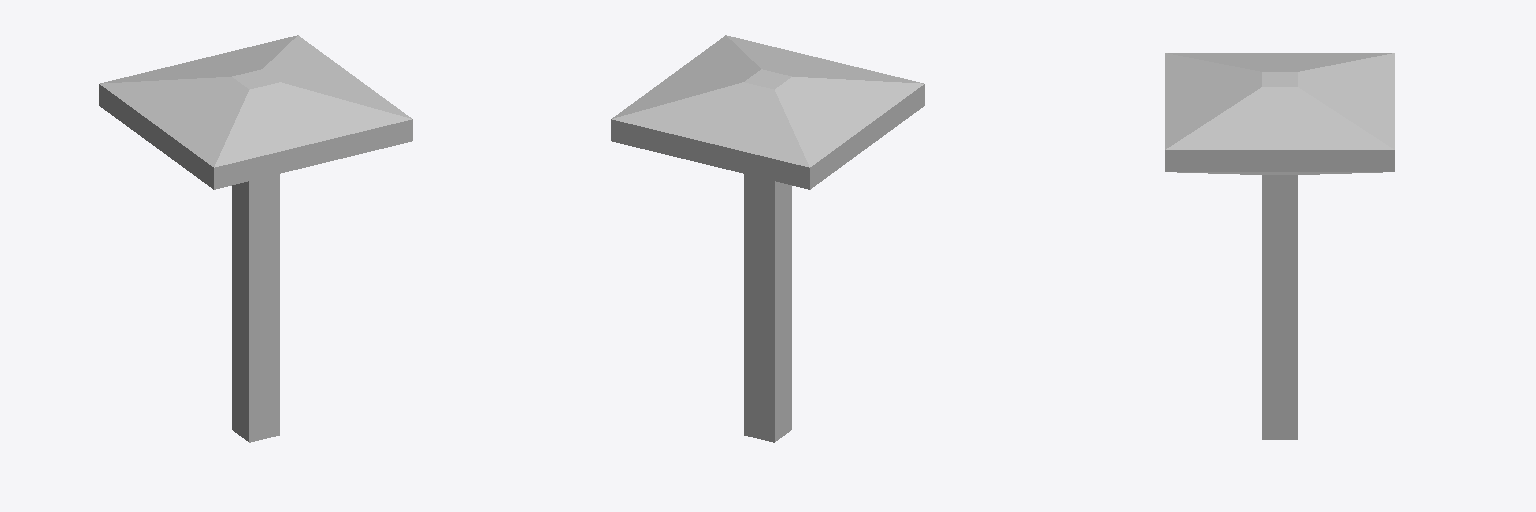
File: tower.obj
3 renders of one model, left to right at view 1: azimuth 30°, elevation 25°; view 2: azimuth 150°, elevation 25°; view 3: azimuth 270°, elevation 25°, orthographic.
Visible parts, largest first — view 1: Cube; view 2: Cube; view 3: Cube.
Boxes of the visible parts, x1=… form: Cube: x1=99, y1=35, x2=412, y2=442; Cube: x1=611, y1=35, x2=924, y2=442; Cube: x1=1165, y1=53, x2=1394, y2=439.
Bounding box in the file's own units: 12.91 × 21.9 × 12.91.